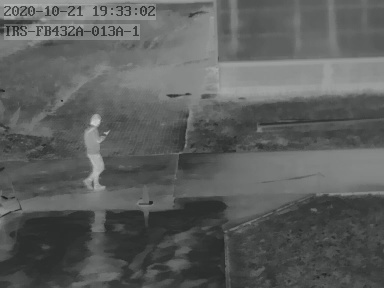person: (80, 113, 111, 188)
